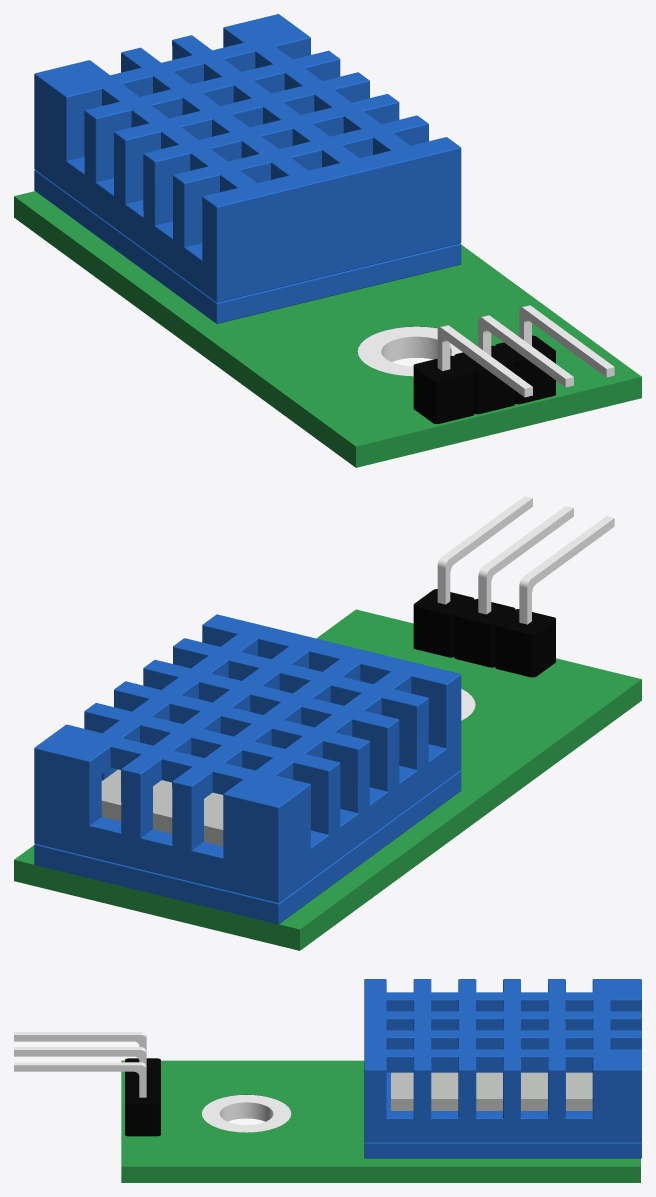
Rendered from DHT11 module.gltf.
3 views of the same model, one above another, from view 1: azimuth 30°, elevation 25°; view 2: azimuth 150°, elevation 25°; view 3: azimuth 270°, elevation 25° (orthographic). The views are drawn at different scales.
Visible parts, largest first — view 1: SOLID, SOLID.001; view 2: SOLID, SOLID.001; view 3: SOLID.001, SOLID.
Boxes of the visible parts, x1,y1,x2,y2 form: SOLID: (34,14,461,302); SOLID.001: (14,170,641,467); SOLID: (34,614,461,902); SOLID.001: (14,496,641,950); SOLID.001: (14,1032,641,1182); SOLID: (364,979,641,1142).
Size of the model in its own units: 1.4 by 0.65 by 3.5.
